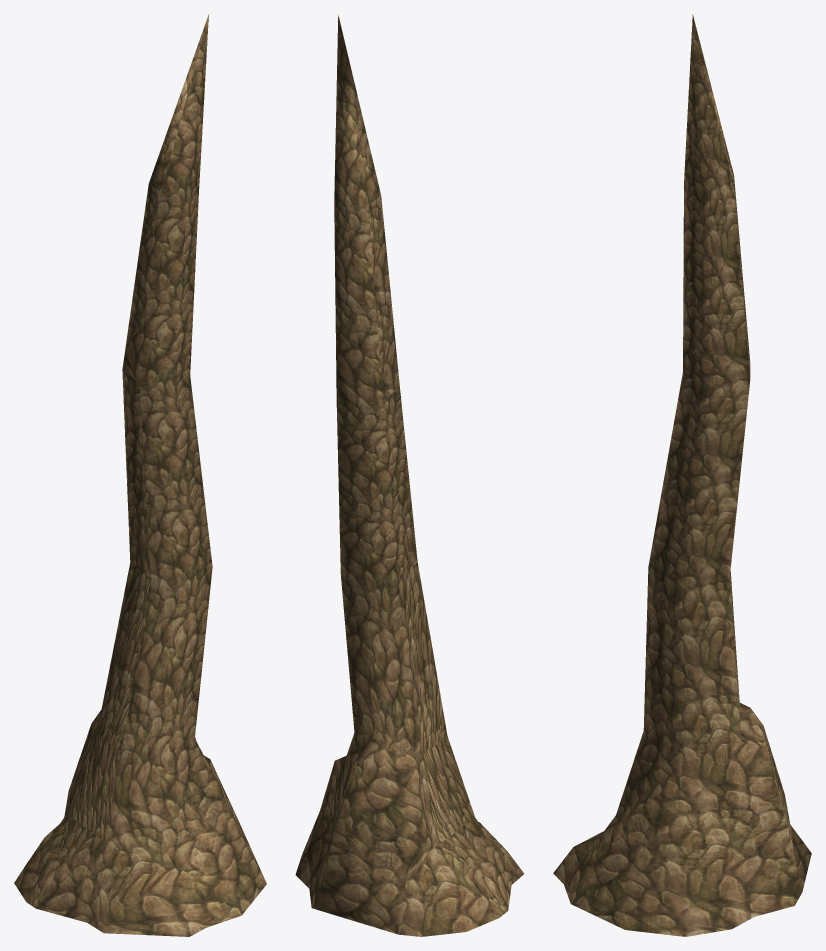
Rendered from pine treeb collider.FBX.
The picture shows the model from 3 angles, left to right: view 1: azimuth 30°, elevation 25°; view 2: azimuth 150°, elevation 25°; view 3: azimuth 270°, elevation 25°; orthographic projection. The views are drawn at different scales.
Parts seen in each view (by area): view 1: pine treeb collider; view 2: pine treeb collider; view 3: pine treeb collider.
Part boxes in pixels (<box>): pine treeb collider: <box>14,14,266,936</box>; pine treeb collider: <box>295,15,524,936</box>; pine treeb collider: <box>553,14,811,936</box>.
Bounding box in the file's own units: 7.76 × 29.99 × 7.78.
